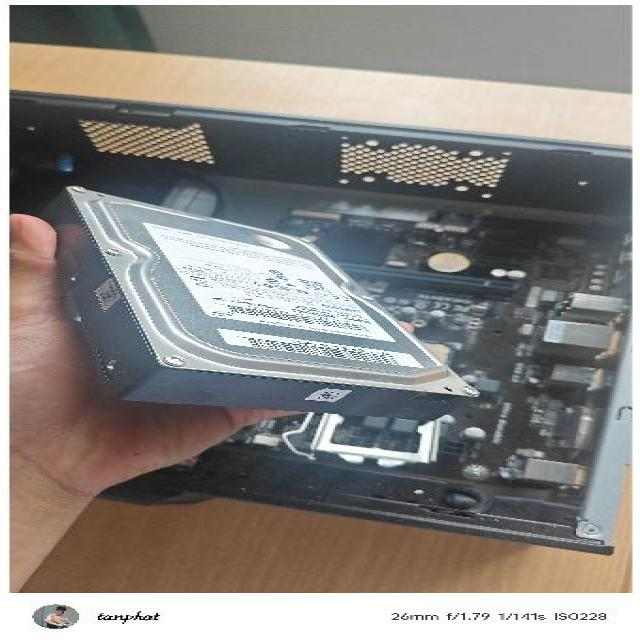DISK: (30, 179, 478, 425)
